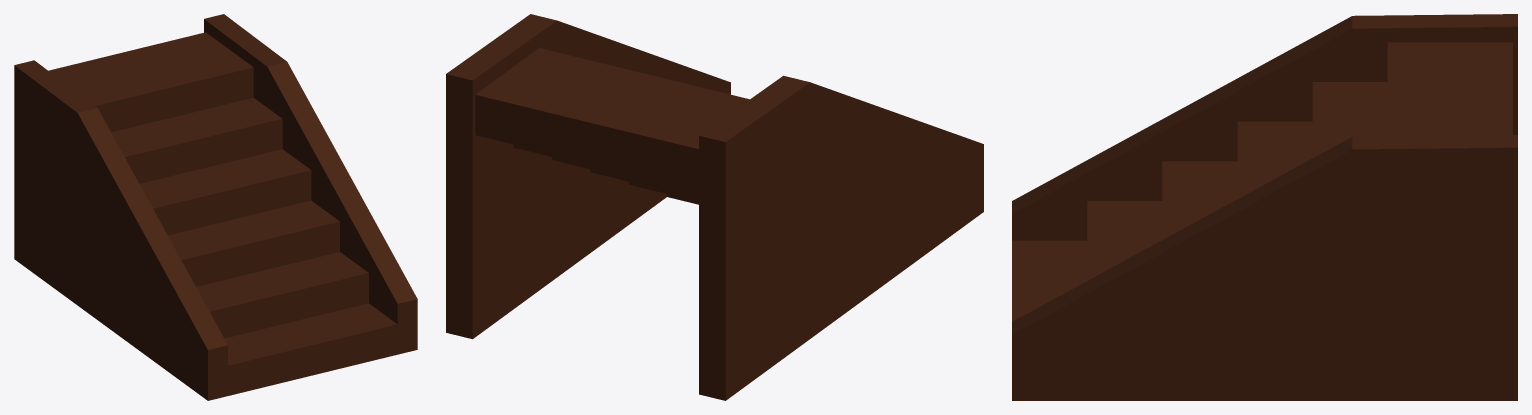
Rendered from StageStairs.fbx.
3 renders of one model, left to right at view 1: azimuth 30°, elevation 25°; view 2: azimuth 150°, elevation 25°; view 3: azimuth 270°, elevation 25°, orthographic. The views are drawn at different scales.
Parts seen in each view (by area): view 1: Cube.004; view 2: Cube.004; view 3: Cube.004.
Part boxes in pixels (x1,y1,x2,y2): Cube.004: (14, 14, 417, 400); Cube.004: (446, 14, 983, 400); Cube.004: (1012, 14, 1517, 400).
Size of the model in its own units: 232 by 371 by 205.
